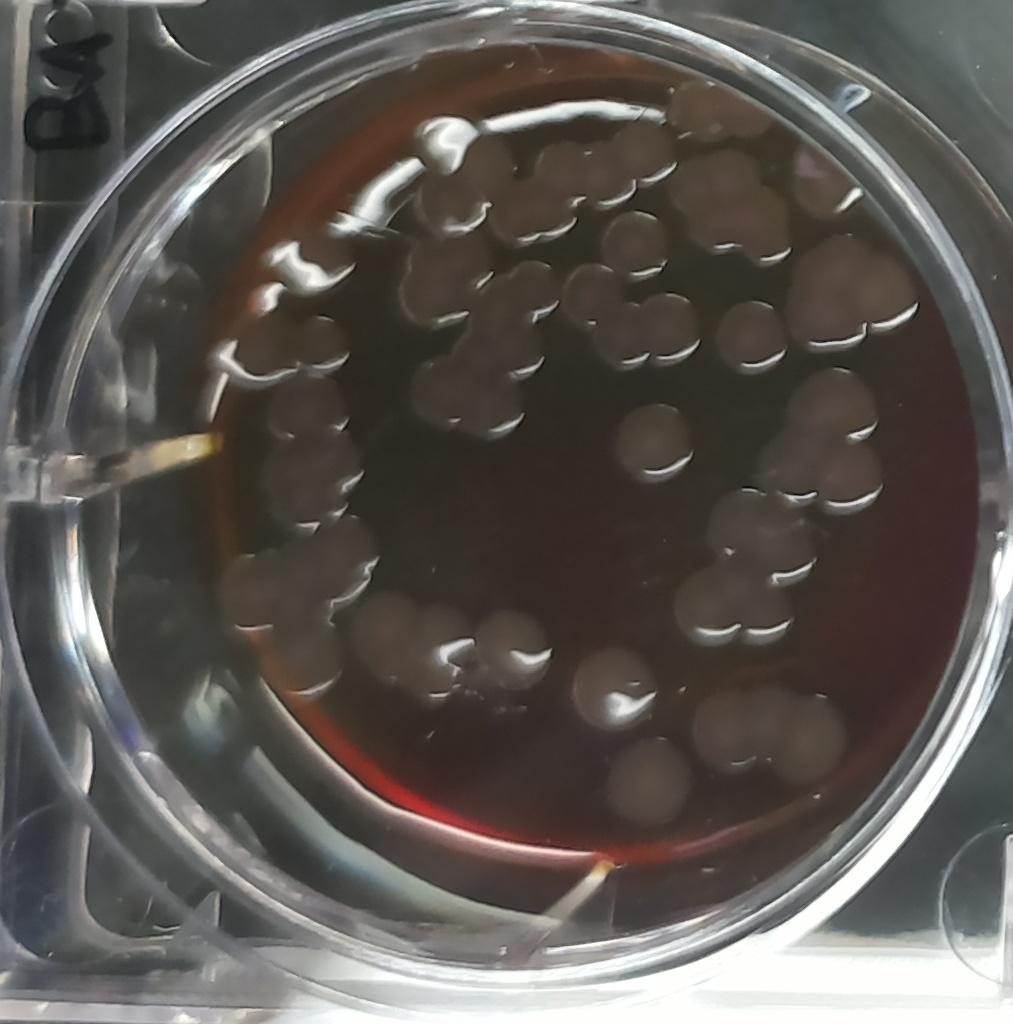vproteolyticus: (410, 255, 564, 445), (668, 487, 824, 656), (494, 110, 681, 246), (751, 359, 894, 515), (217, 508, 381, 628), (686, 679, 856, 791), (786, 232, 924, 353), (264, 378, 366, 534), (349, 586, 471, 707), (668, 149, 796, 263), (409, 115, 518, 233), (561, 643, 663, 751), (593, 290, 703, 378), (606, 737, 697, 835), (607, 397, 701, 485), (470, 603, 556, 697), (708, 290, 794, 383), (666, 77, 777, 147), (265, 616, 349, 703), (600, 207, 673, 284), (562, 264, 627, 331), (296, 311, 358, 376)
